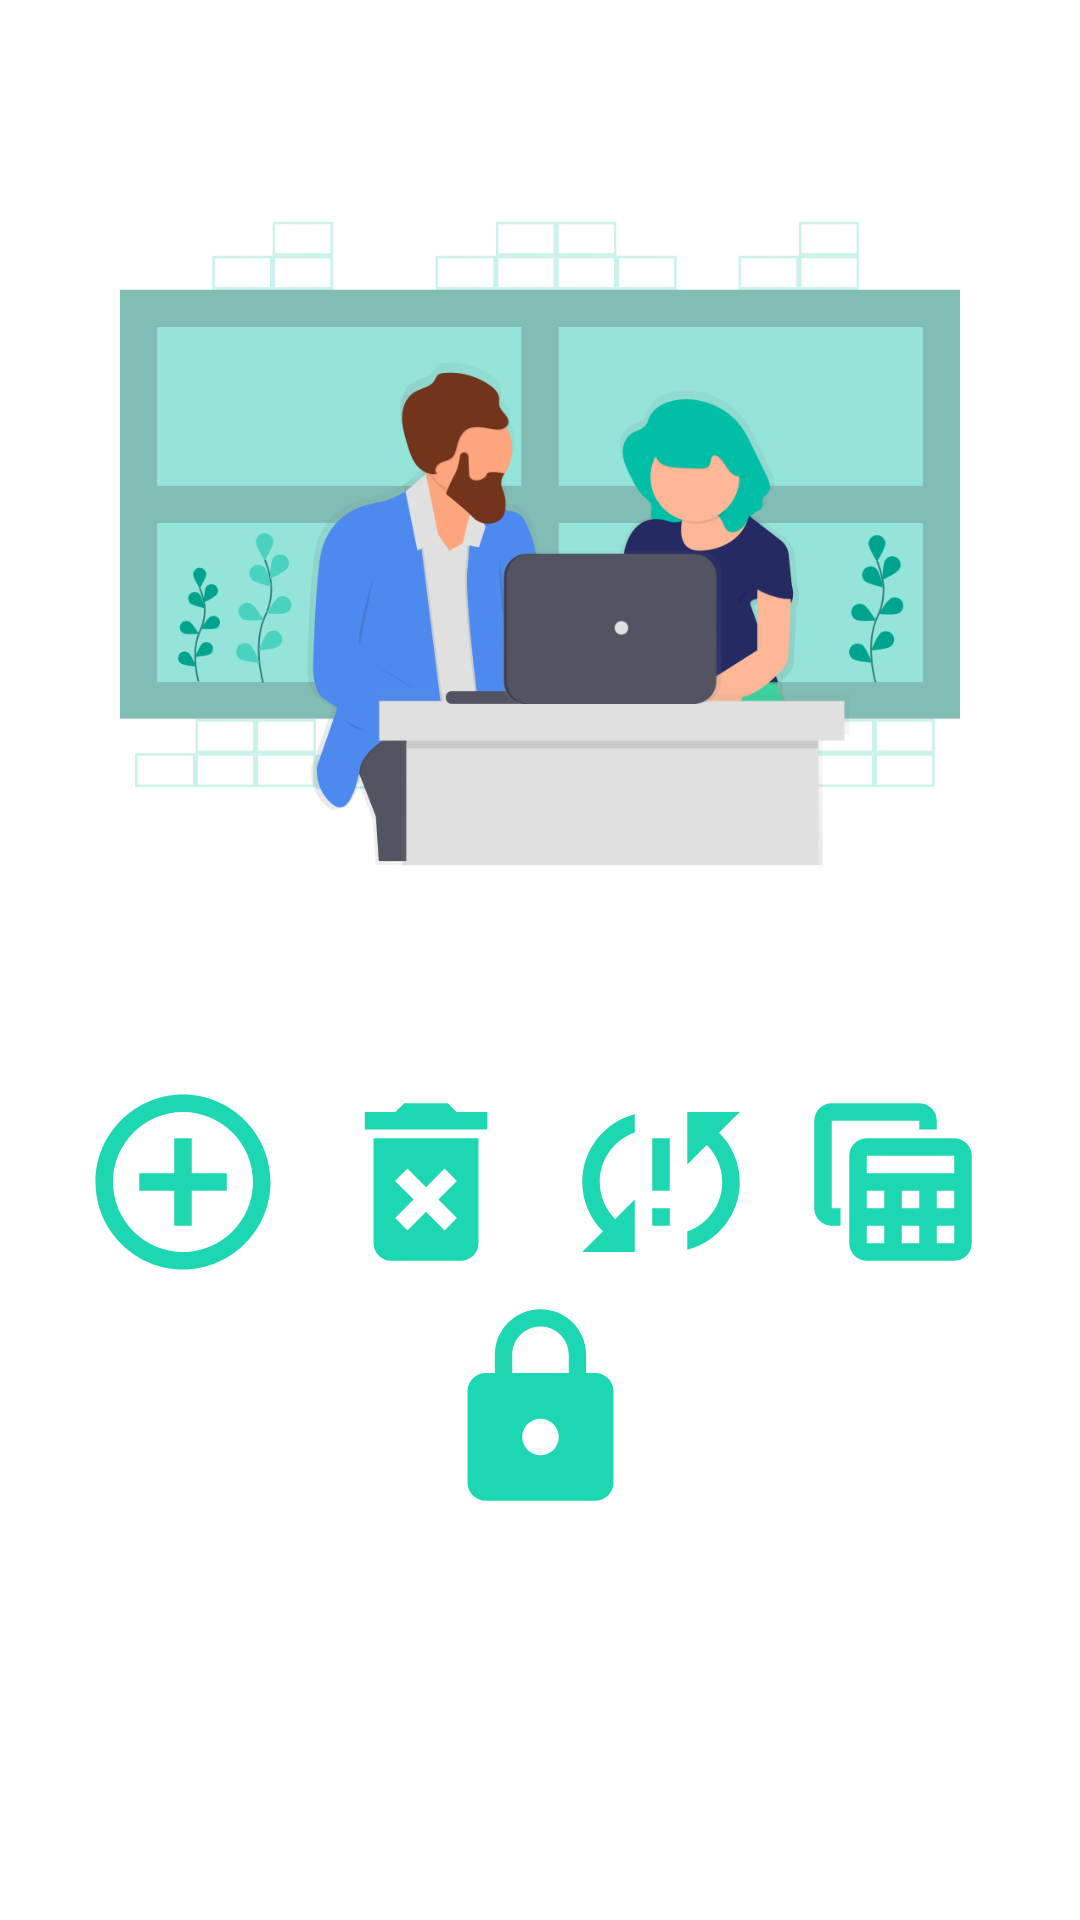

Where icons sit on this 1080 × 1920 app screen, as bbox=[x1, y1, x2, y2]:
delete: bbox=[364, 1103, 488, 1261]
insert: bbox=[95, 1094, 271, 1270]
password: bbox=[467, 1309, 614, 1501]
update: bbox=[582, 1112, 740, 1252]
